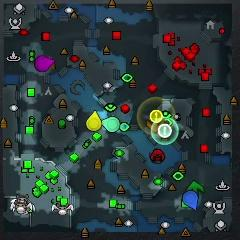Other: (158, 124, 172, 138), (150, 109, 163, 123)
p1: (183, 190, 197, 211)
p2: (101, 116, 120, 133)
p3: (35, 56, 54, 71)
p4: (86, 109, 102, 131)
x4: (188, 181, 203, 195)
x5: (147, 121, 165, 133)
